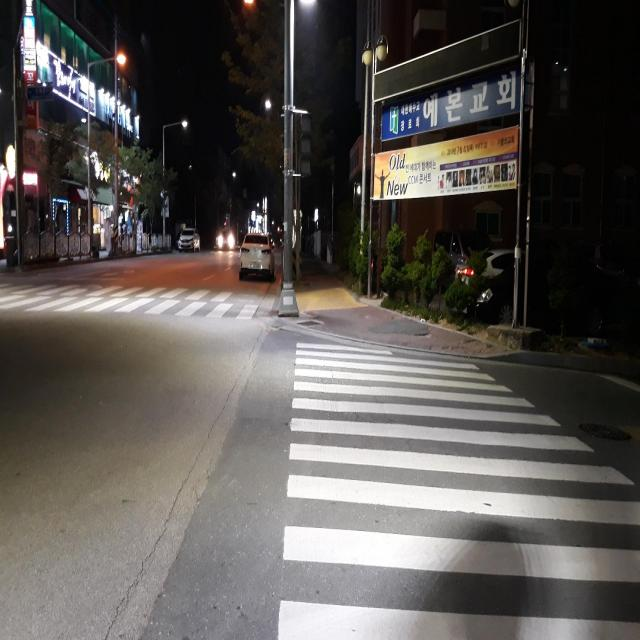횡단보도: (275, 338, 640, 639), (0, 283, 259, 323)
